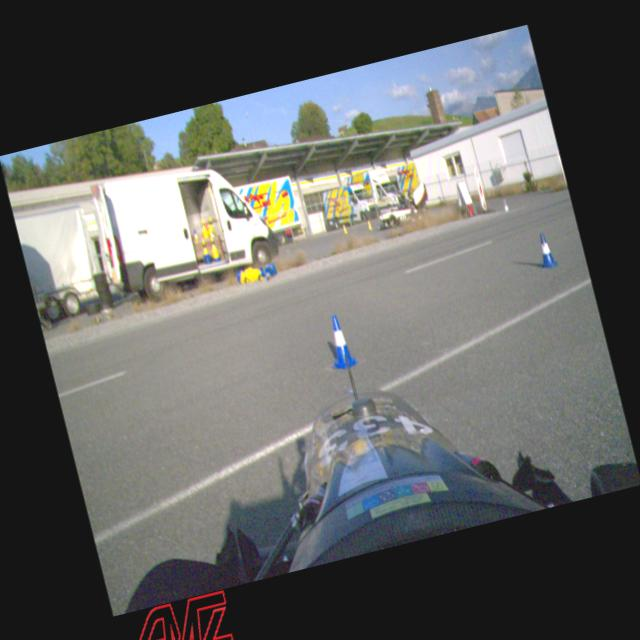blue_cone: (320, 312, 360, 372), (534, 230, 558, 269)
